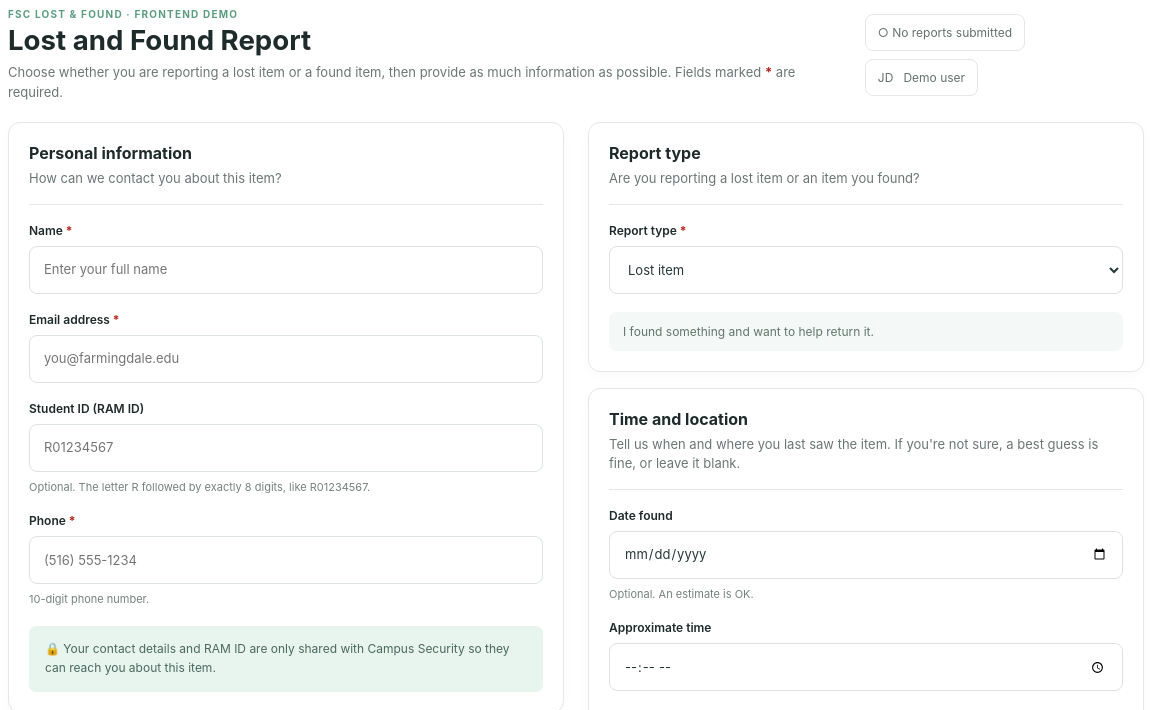
ReportPage › makes contact details optional on found reports
This screenshot has width=1152, height=710.
Select "Found item" in the dropdown labelled "Report type *" at [866, 270], box [609, 246, 1123, 294]
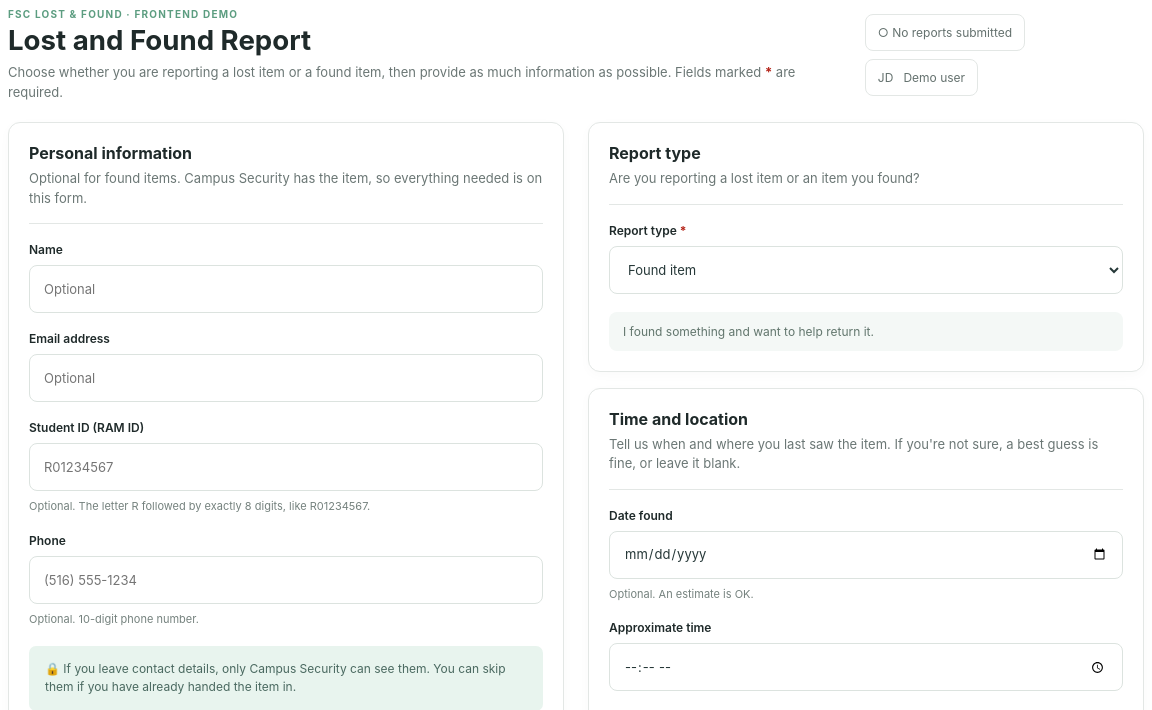
Check: the label "Name" does not show "*", box [29, 242, 543, 313]
Check: the text "Optional for found items" is shown, box [29, 170, 542, 206]
